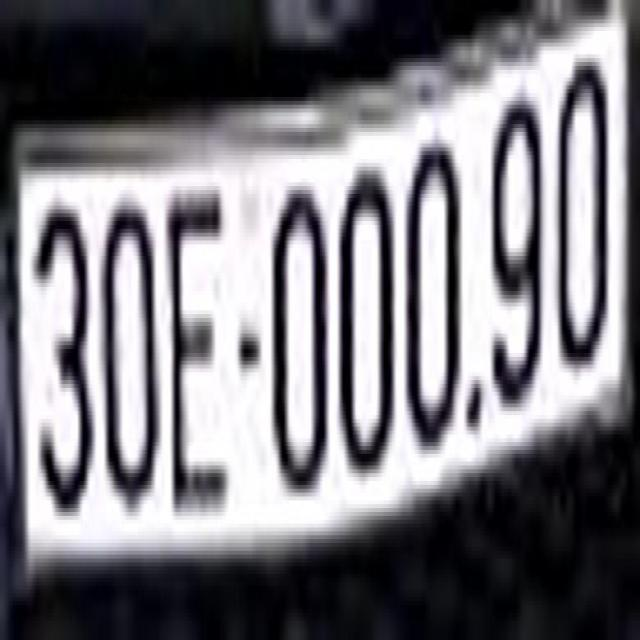0: (97, 186, 160, 528), (269, 170, 329, 504), (402, 132, 461, 466), (337, 155, 397, 481), (559, 42, 614, 376)
3: (32, 183, 92, 532)
9: (488, 101, 546, 419)
E: (167, 175, 230, 528)
